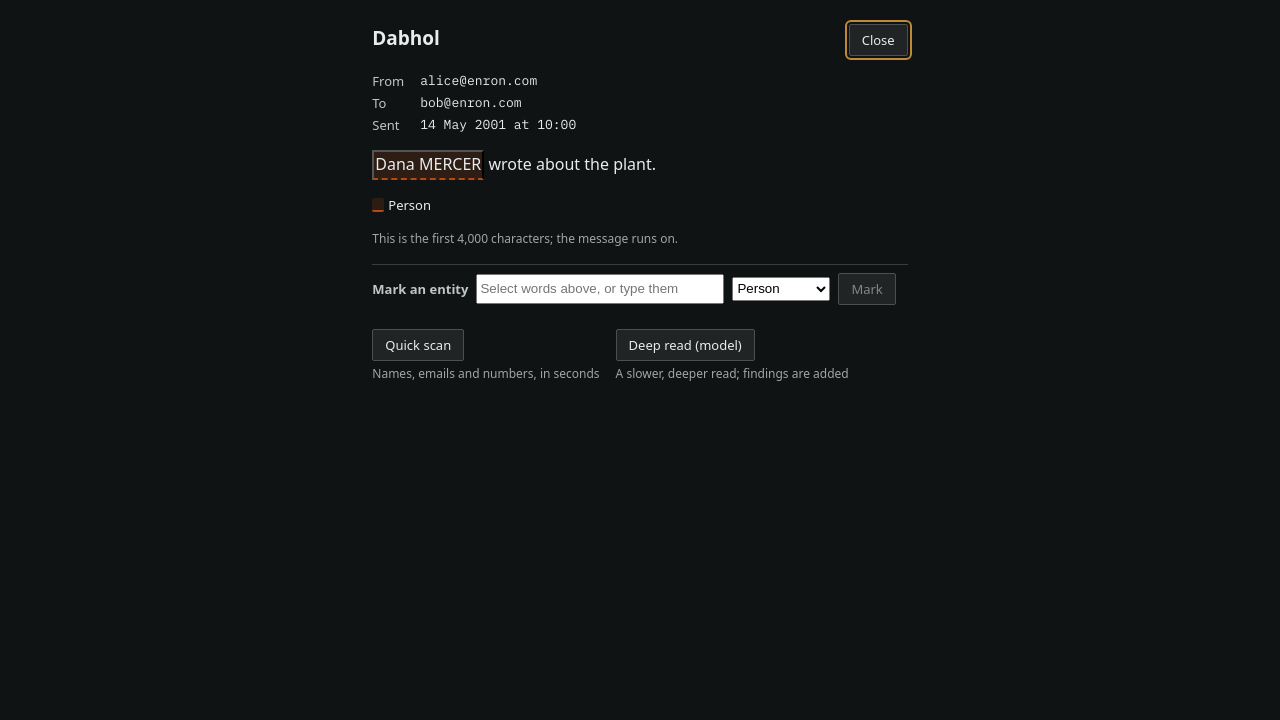
Test: DocumentReader › rejects a finding beside Accept, writing nothing to the view (owner, 6 October 2026)
This screenshot has width=1280, height=720.
What coordinates should you click on to do the following:
click the button "Quick scan"
I would click on:
 (418, 345)
Its box is [372,329,464,361].
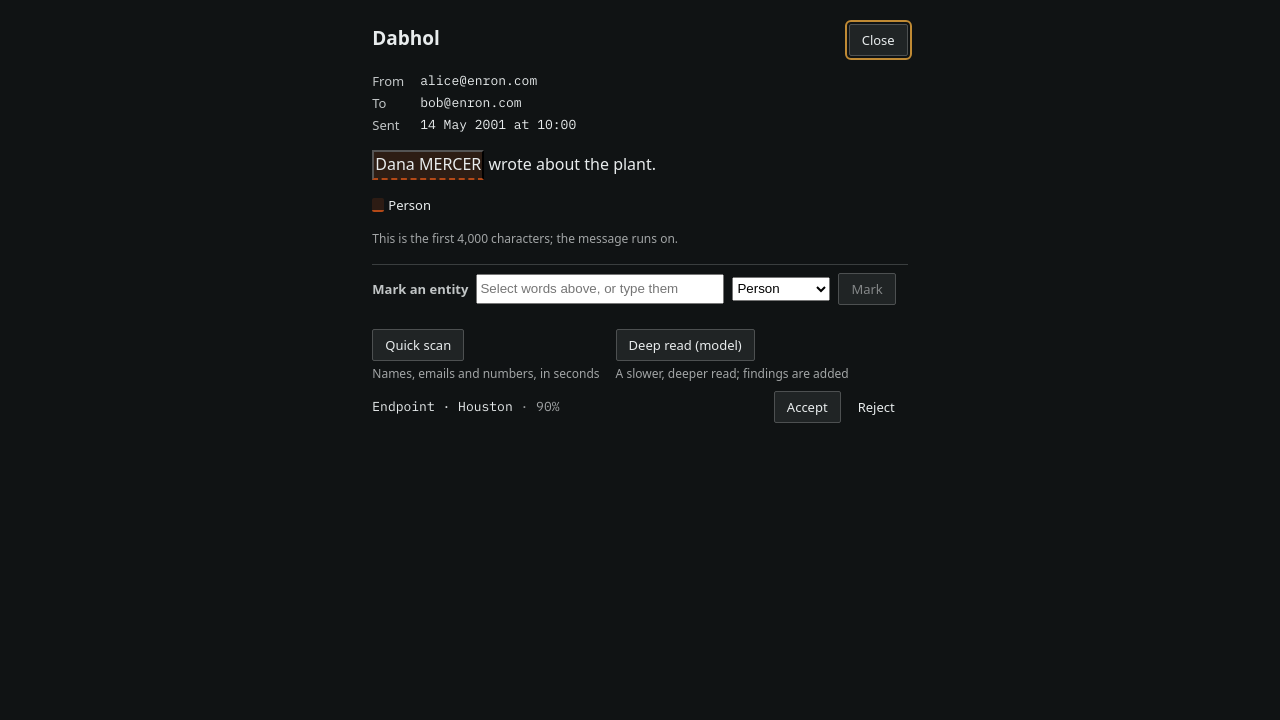
What coordinates should you click on to do the following:
click the button with aria-label "Reject Endpoint · Houston"
I would click on:
 (876, 407)
Its box is [845,391,908,423].
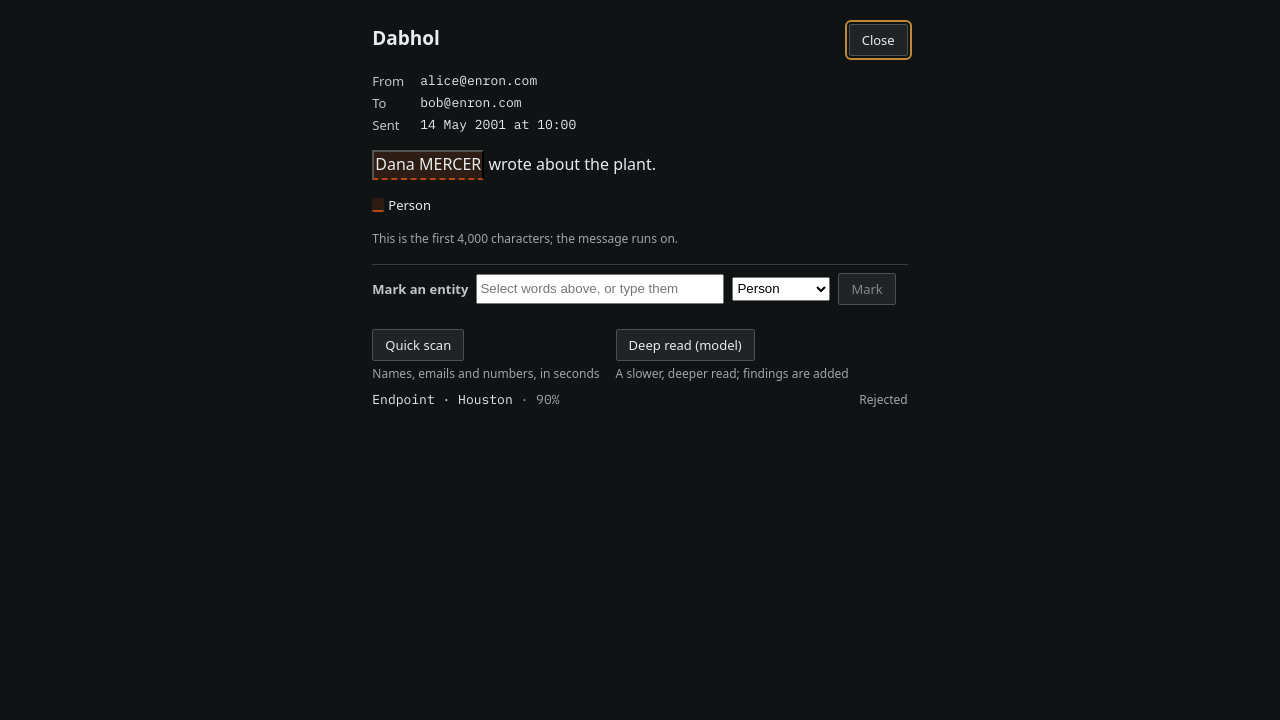
Expected: the text "Rejected" is shown, [859,391,908,409]
